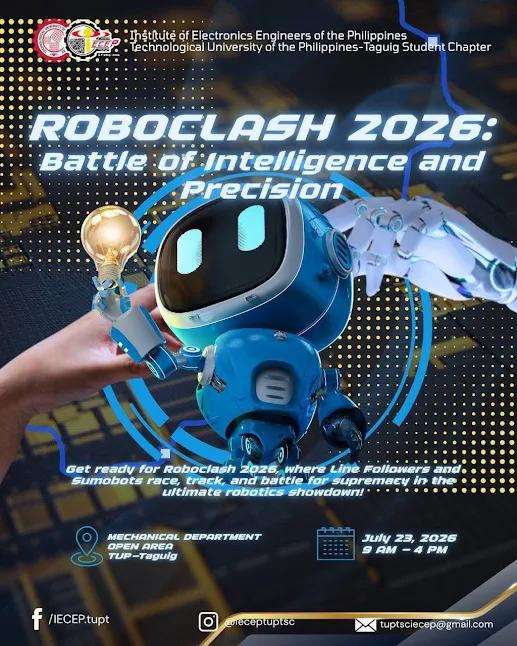embellishment: (77, 145, 517, 502)
logo: (30, 18, 127, 62), (314, 523, 358, 565), (70, 523, 105, 568), (197, 606, 223, 635), (350, 614, 381, 633), (28, 604, 47, 633)
text: (26, 109, 508, 204), (61, 459, 471, 500), (127, 25, 501, 56), (103, 529, 270, 563), (359, 528, 466, 560), (377, 616, 498, 633), (46, 610, 117, 627), (224, 614, 304, 629)
